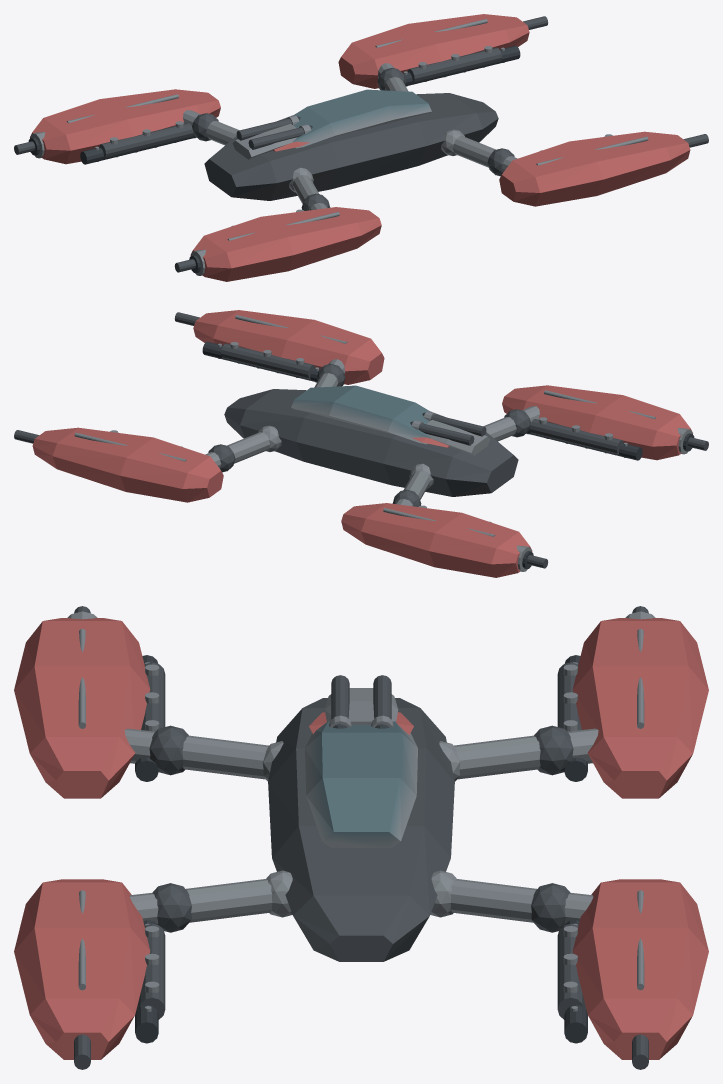
The model's file is x5_red_ground_off.glb.
3 views of the same model, one above another, from view 1: azimuth 30°, elevation 25°; view 2: azimuth 150°, elevation 25°; view 3: azimuth 270°, elevation 25° (orthographic). The views are drawn at different scales.
Visible parts, largest first — view 1: pod_armor_10, center_hull_0, cabin_base_1, pod_mechanics_15, mechanical_arms_8, outer_joint_9, pod_rail_11, missile_body_3, inner_drive_rail_17, forward_gun_12, launcher_saddle_2, inner_joint_7; view 2: pod_armor_10, center_hull_0, cabin_base_1, pod_mechanics_15, mechanical_arms_8, outer_joint_9, missile_body_3, pod_rail_11, inner_drive_rail_17, forward_gun_12, launcher_saddle_2, inner_joint_7; view 3: pod_armor_10, center_hull_0, mechanical_arms_8, cabin_base_1, outer_joint_9, pod_mechanics_15, inner_drive_rail_17, inner_joint_7, pod_rail_11, mechanical_crossbeam_16, missile_body_3, forward_gun_12 (+1 smaller).
Boxes of the visible parts, bbox=[...] form: pod_armor_10: bbox=[30, 14, 690, 281]; center_hull_0: bbox=[204, 93, 498, 200]; cabin_base_1: bbox=[292, 89, 431, 148]; pod_mechanics_15: bbox=[99, 47, 501, 158]; mechanical_arms_8: bbox=[183, 63, 517, 210]; outer_joint_9: bbox=[192, 68, 514, 210]; pod_rail_11: bbox=[66, 19, 648, 240]; missile_body_3: bbox=[236, 117, 311, 149]; inner_drive_rail_17: bbox=[80, 45, 520, 164]; forward_gun_12: bbox=[14, 16, 708, 272]; launcher_saddle_2: bbox=[232, 123, 297, 159]; inner_joint_7: bbox=[289, 129, 464, 192]; pod_armor_10: bbox=[32, 310, 692, 577]; center_hull_0: bbox=[224, 389, 518, 496]; cabin_base_1: bbox=[291, 385, 430, 444]; pod_mechanics_15: bbox=[221, 343, 623, 454]; mechanical_arms_8: bbox=[205, 359, 539, 506]; outer_joint_9: bbox=[208, 364, 530, 506]; missile_body_3: bbox=[411, 413, 486, 445]; pod_rail_11: bbox=[74, 315, 656, 536]; inner_drive_rail_17: bbox=[202, 341, 642, 460]; forward_gun_12: bbox=[14, 312, 708, 568]; launcher_saddle_2: bbox=[426, 419, 490, 455]; inner_joint_7: bbox=[258, 425, 433, 488]; pod_armor_10: bbox=[14, 618, 708, 1059]; center_hull_0: bbox=[268, 698, 454, 961]; mechanical_arms_8: bbox=[124, 728, 598, 923]; cabin_base_1: bbox=[305, 721, 417, 847]; outer_joint_9: bbox=[149, 725, 573, 932]; pod_mechanics_15: bbox=[139, 662, 583, 1019]; inner_drive_rail_17: bbox=[135, 655, 587, 1043]; inner_joint_7: bbox=[262, 741, 460, 917]; pod_rail_11: bbox=[78, 629, 644, 990]; mechanical_crossbeam_16: bbox=[145, 664, 577, 992]; missile_body_3: bbox=[331, 675, 391, 727]; forward_gun_12: bbox=[74, 606, 648, 1069].
Size of the model in its own units: 8.06 by 0.9 by 5.28.
